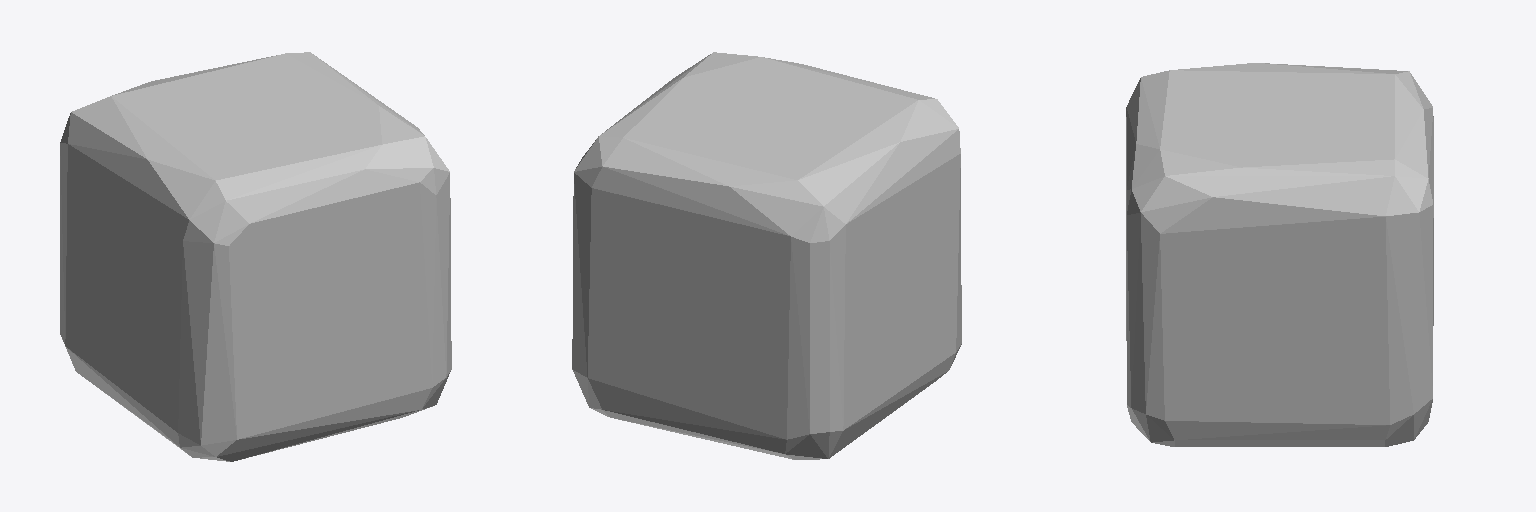
File: hole_vhacd.obj
3 views of the same model, side by side, from view 1: azimuth 30°, elevation 25°; view 2: azimuth 150°, elevation 25°; view 3: azimuth 270°, elevation 25° (orthographic).
Visible parts, largest first — view 1: convex_0; view 2: convex_0; view 3: convex_0.
Part boxes in pixels (x1,y1,x2,y2): convex_0: (60, 52, 451, 461); convex_0: (572, 52, 961, 459); convex_0: (1126, 63, 1433, 446).
Size of the model in its own units: 1.97 by 1.97 by 1.97.